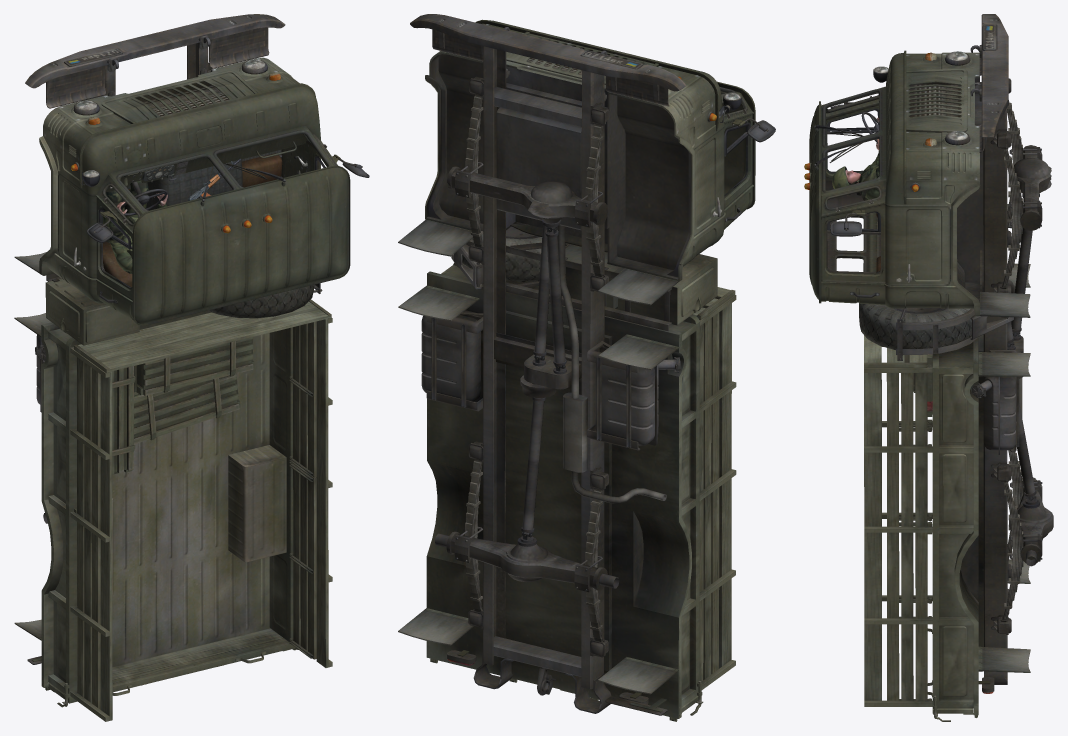
Rendered from gaz-66.obj.
The picture shows the model from 3 angles, left to right: view 1: azimuth 30°, elevation 25°; view 2: azimuth 150°, elevation 25°; view 3: azimuth 270°, elevation 25°; orthographic projection. The views are drawn at different scales.
Parts seen in each view (by area): view 1: gaz-66; view 2: gaz-66; view 3: gaz-66.
Boxes of the visible parts, bbox=[...] form: gaz-66: bbox=[14, 14, 369, 721]; gaz-66: bbox=[398, 14, 775, 721]; gaz-66: bbox=[804, 14, 1053, 721].
Size of the model in its own units: 2.74 by 5.96 by 2.25.
1 material, 1 textured.
